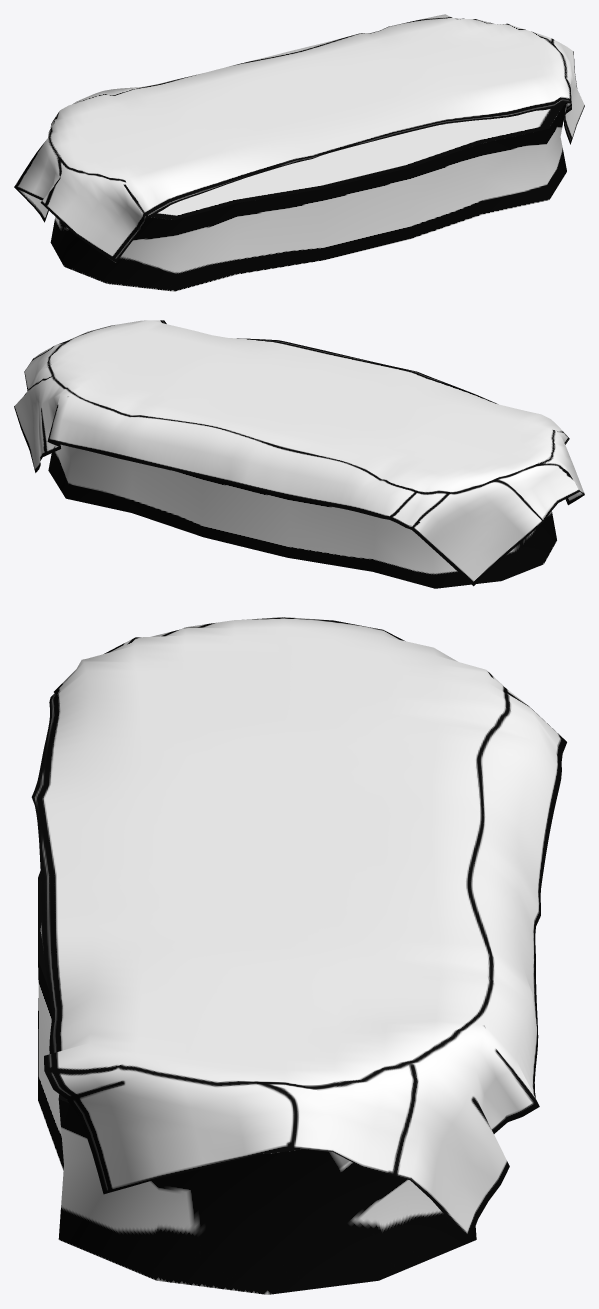
Rendered from bedAll 1.FBX.
3 renders of one model, top to bottom at view 1: azimuth 30°, elevation 25°; view 2: azimuth 150°, elevation 25°; view 3: azimuth 270°, elevation 25°, orthographic. The views are drawn at different scales.
Parts seen in each view (by area): view 1: Plane001; view 2: Plane001; view 3: Plane001.
Part boxes in pixels (<box>): Plane001: <box>14,14,584,291</box>; Plane001: <box>14,320,584,588</box>; Plane001: <box>31,617,566,1294</box>.
Size of the model in its own units: 57.28 by 10.99 by 24.78.
